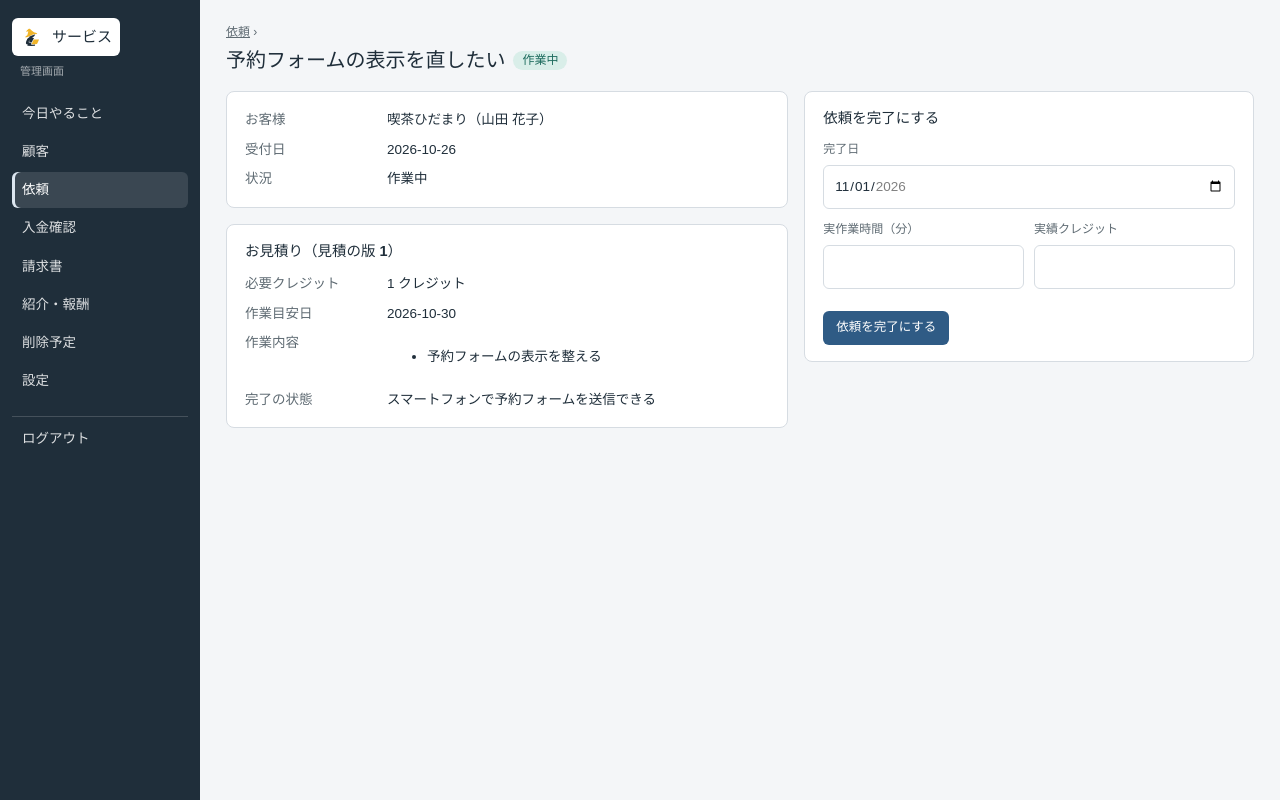
request and estimate routes › rejects completion date 2026-10-25 outside the received-to-Tokyo-today range
Type "2026-10-25" into the date field labelled "完了日".
click(1029, 187); type("2026-10-25")  # box [823,165,1235,209]
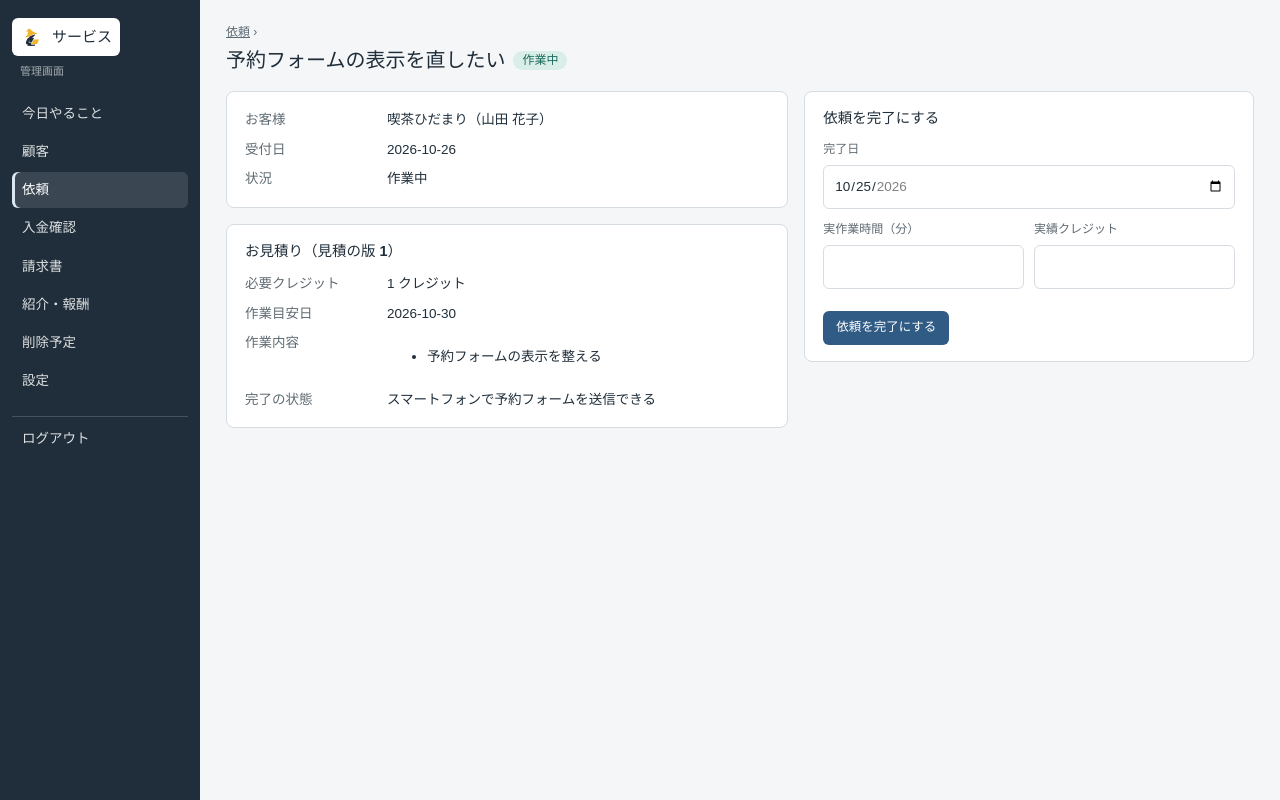
Type "0" into the number field labelled "実作業時間（分）".
click(924, 267); type("0")  # box [823,245,1024,289]
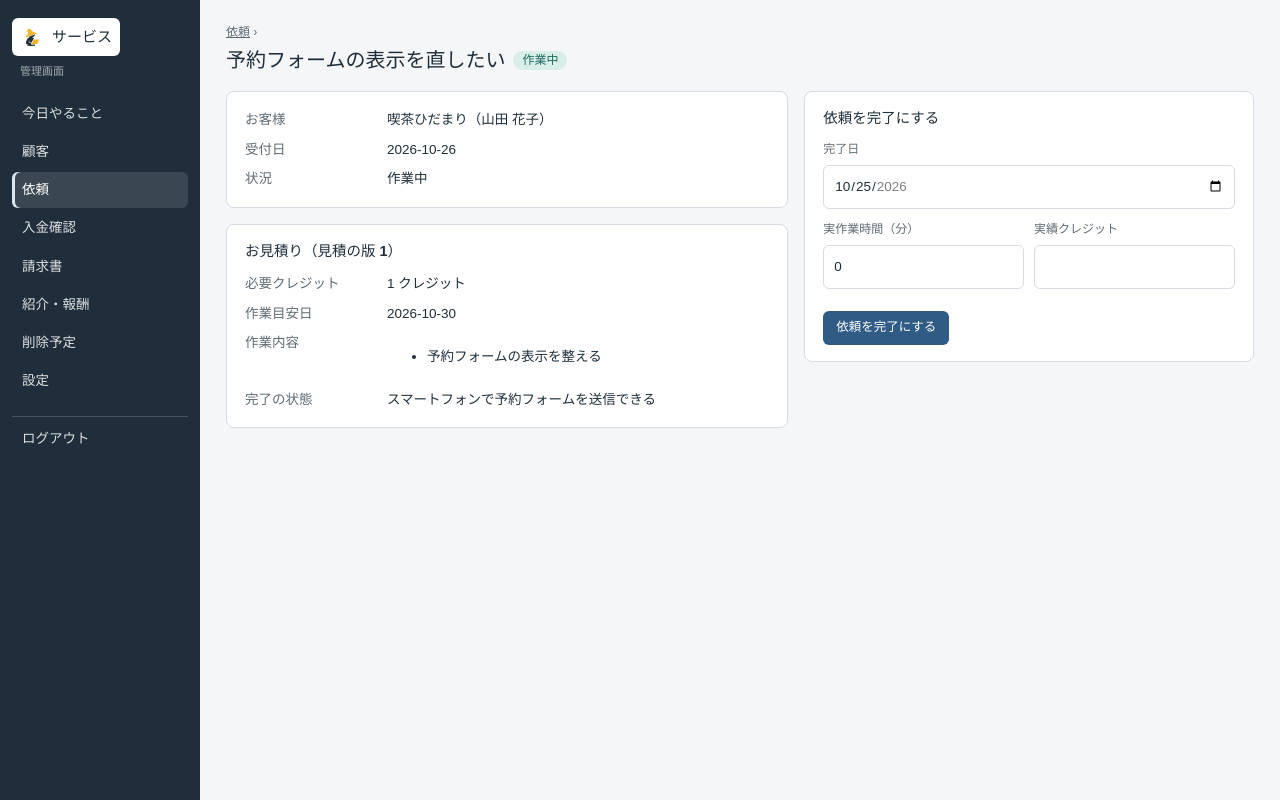
Type "0" into the number field labelled "実績クレジット".
click(1135, 267); type("0")  # box [1034,245,1235,289]
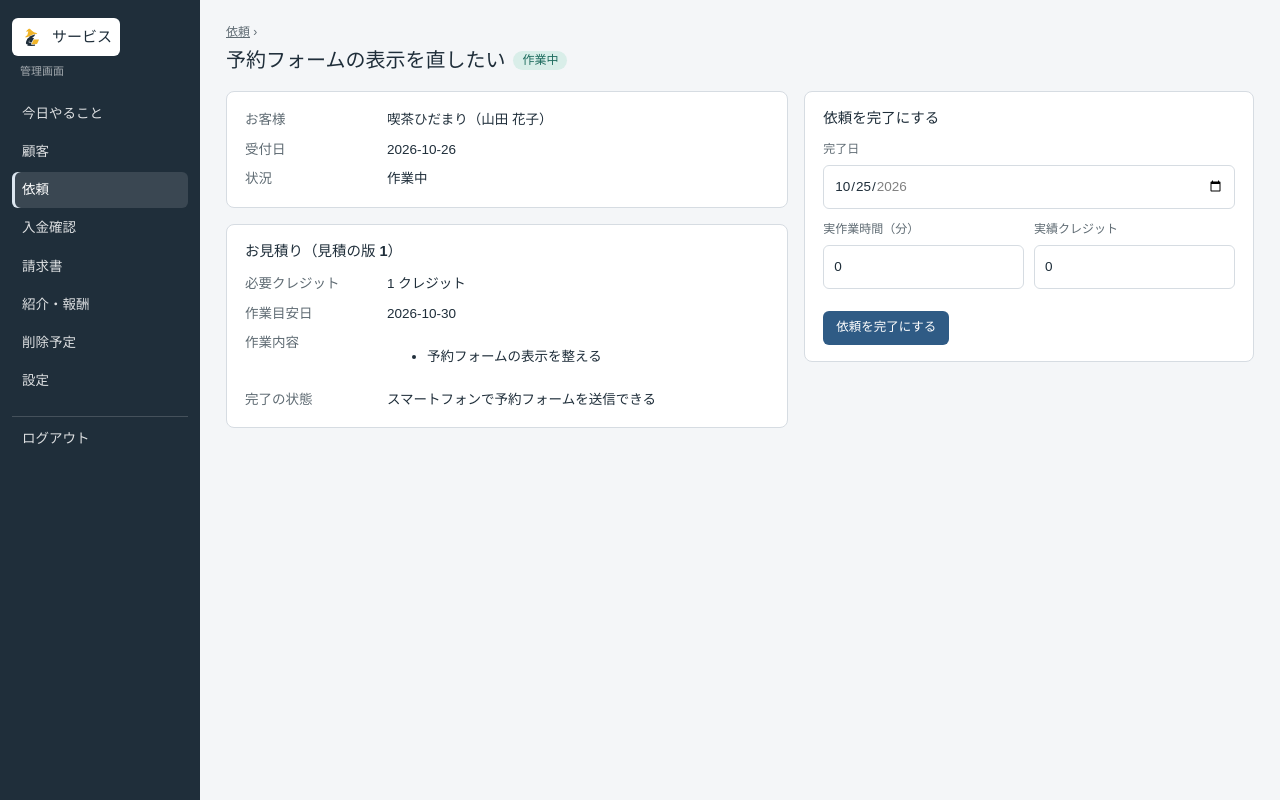
Click the button "依頼を完了にする".
click(886, 328)  # box [823,311,949,345]
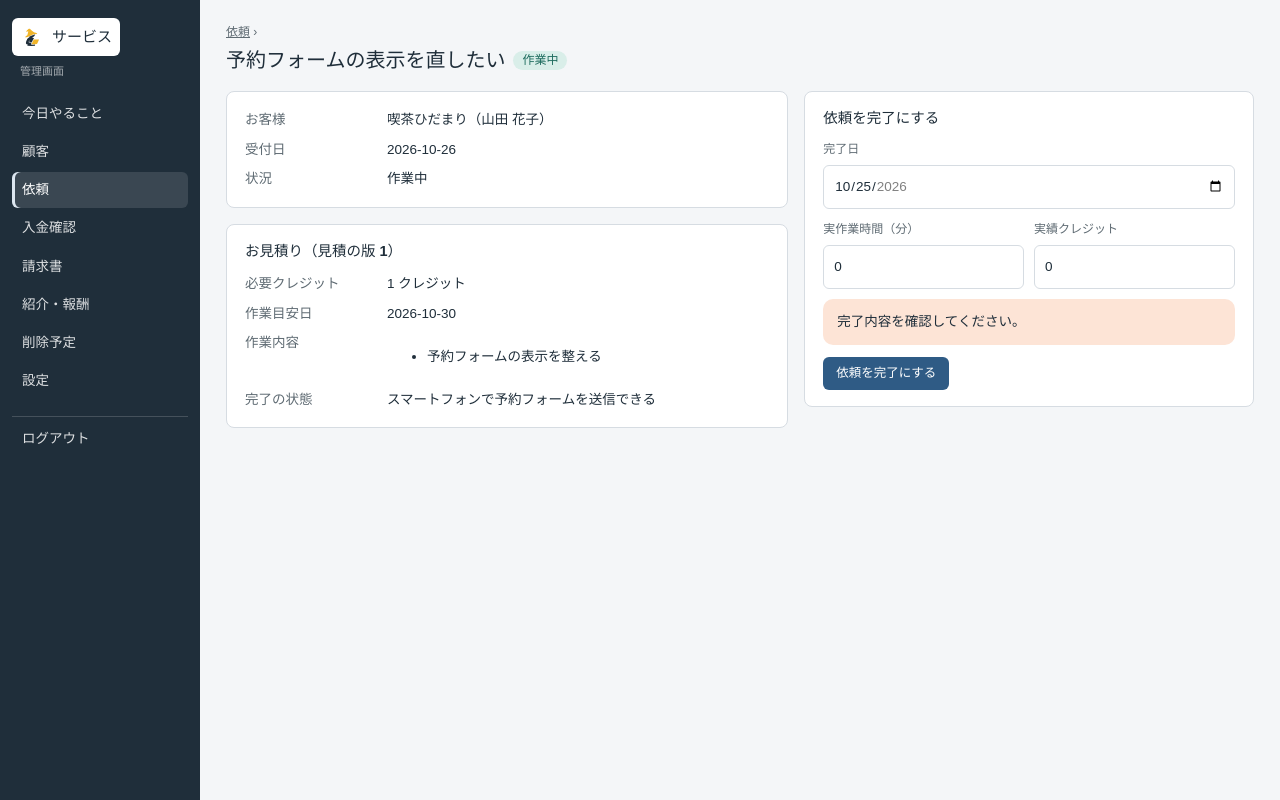
Check: the text "完了内容を確認してください。" is shown, box [823,299,1235,345]
